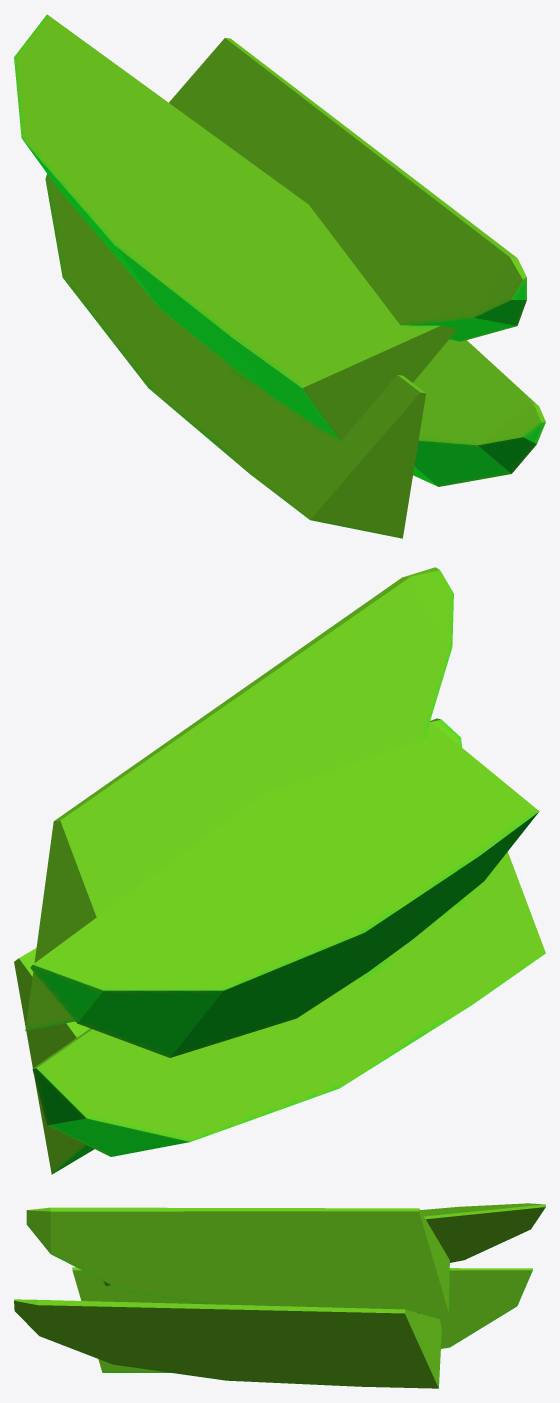
The model's file is cut_cucumber.fbx.
3 renders of one model, top to bottom at view 1: azimuth 30°, elevation 25°; view 2: azimuth 150°, elevation 25°; view 3: azimuth 270°, elevation 25°, orthographic. The views are drawn at different scales.
Visible parts, largest first — view 1: Cut_Cucumber; view 2: Cut_Cucumber; view 3: Cut_Cucumber.
Boxes of the visible parts, x1,y1,x2,y2 form: Cut_Cucumber: (14, 14, 545, 538); Cut_Cucumber: (14, 567, 545, 1174); Cut_Cucumber: (14, 1203, 545, 1388).
Bounding box in the file's own units: 48.75 × 58.58 × 151.
